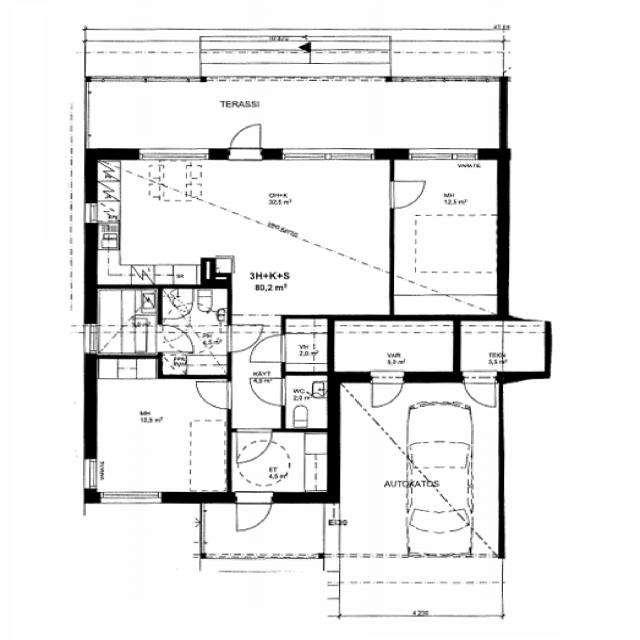door: (158, 287, 229, 375), (230, 491, 276, 534), (232, 426, 274, 466), (225, 120, 267, 160), (364, 370, 407, 409), (386, 177, 428, 211), (461, 371, 498, 409), (191, 378, 233, 410), (247, 377, 289, 408), (249, 334, 287, 366), (223, 322, 261, 354), (153, 322, 191, 354), (78, 320, 102, 355)
window: (276, 144, 380, 166), (130, 144, 214, 164), (401, 145, 484, 165), (92, 487, 170, 508), (78, 319, 102, 355), (79, 456, 100, 494), (82, 199, 98, 225)
zone: (89, 156, 401, 299), (90, 365, 229, 498), (390, 155, 501, 317), (405, 382, 475, 564), (330, 319, 456, 376), (158, 286, 229, 376), (456, 318, 545, 377), (91, 287, 158, 355), (282, 316, 331, 373), (282, 374, 328, 430)
